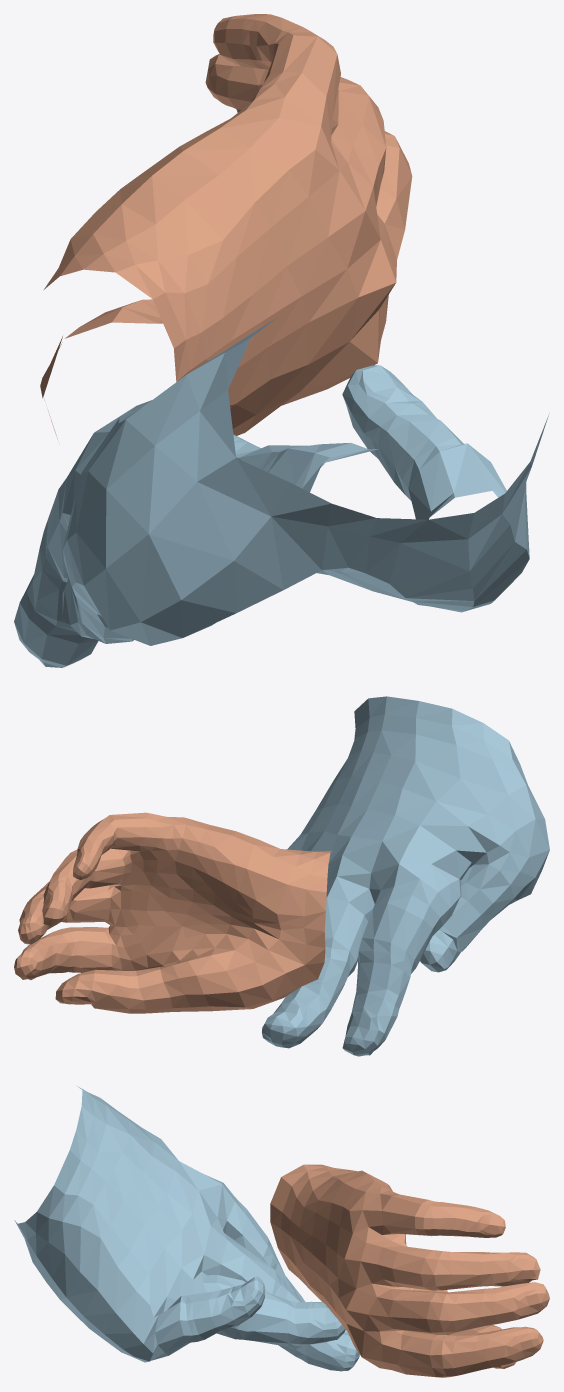
The model's file is frame_064.glb.
The picture shows the model from 3 angles, top to bottom: view 1: azimuth 30°, elevation 25°; view 2: azimuth 150°, elevation 25°; view 3: azimuth 270°, elevation 25°; orthographic projection. The views are drawn at different scales.
Parts seen in each view (by area): view 1: world; view 2: world; view 3: world.
Part boxes in pixels (left/top/right/bottom): world: left=14, top=14, right=548, bottom=667; world: left=14, top=696, right=549, bottom=1056; world: left=14, top=1086, right=549, bottom=1377.
Bounding box in the file's own units: 0.1666 × 0.1267 × 0.2289.
